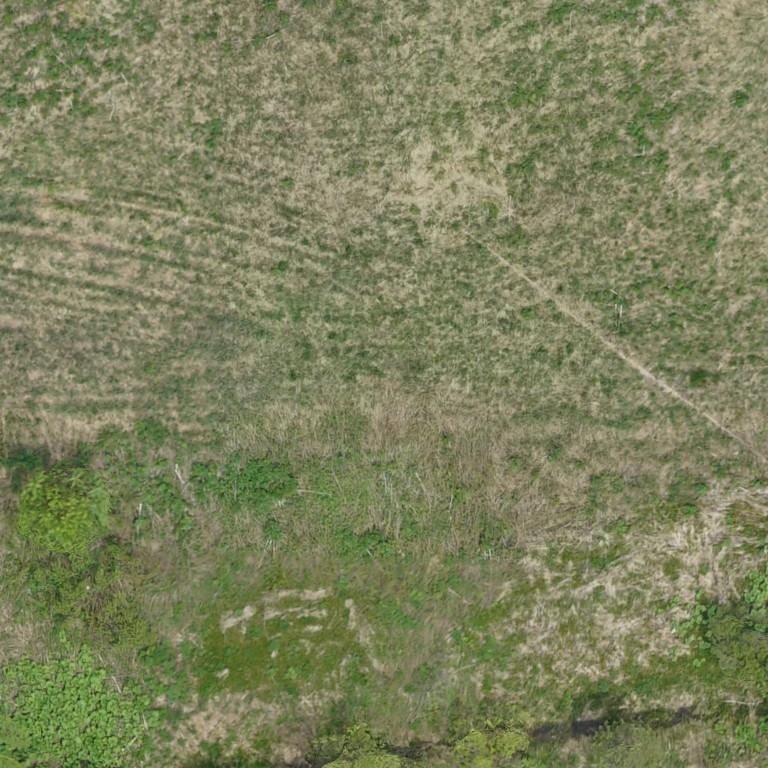hogweed: (190, 461, 295, 514), (338, 528, 393, 555), (137, 421, 168, 444), (6, 449, 41, 468)
